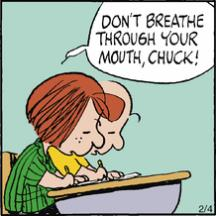charlie: (47, 78, 144, 182)
